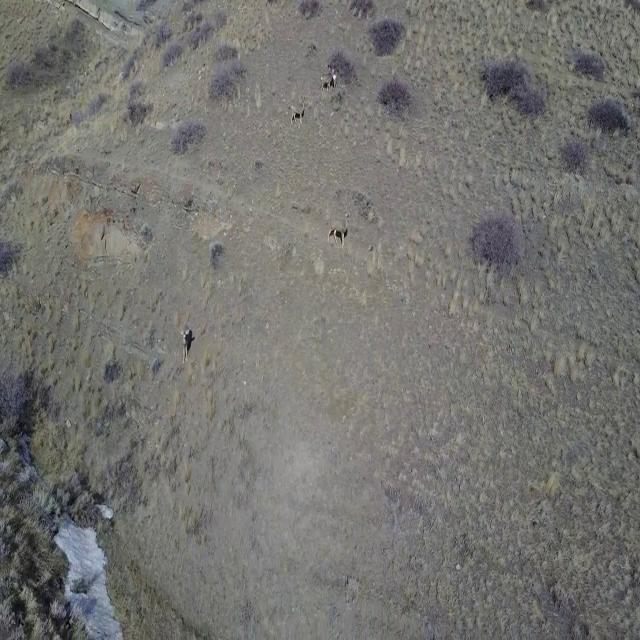Deer: (324, 205, 354, 249), (180, 323, 198, 368), (318, 62, 340, 98), (290, 89, 308, 131)
